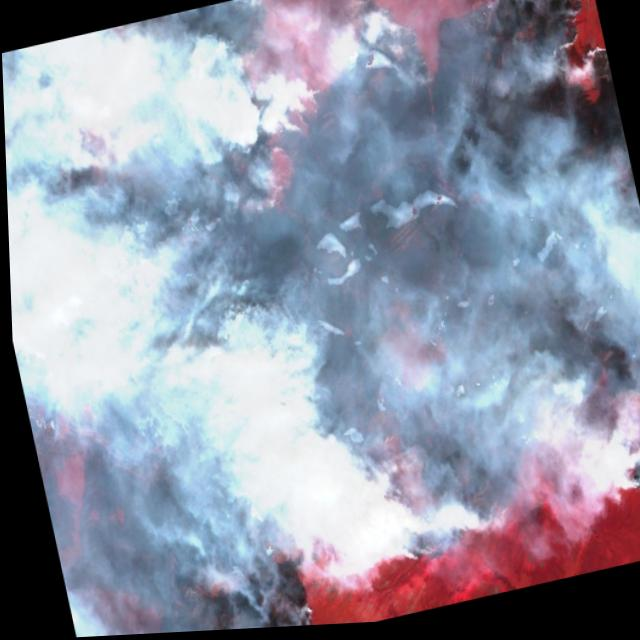fire: (117, 0, 640, 635)
